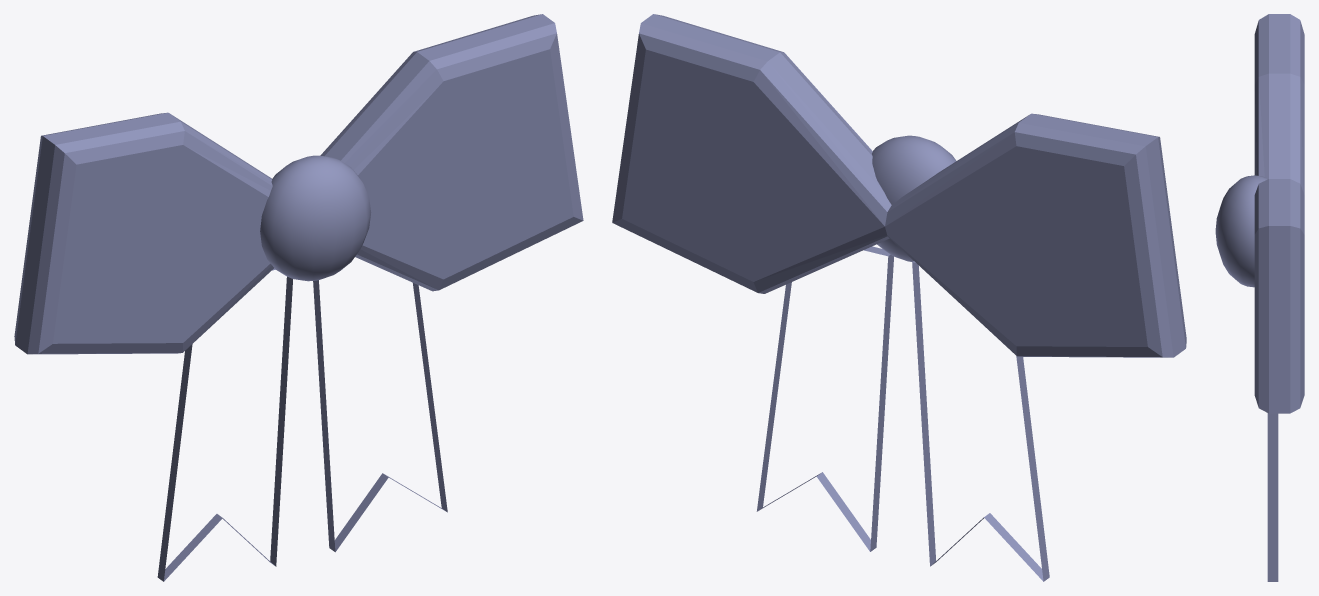
The model's file is ribbon.glb.
The picture shows the model from 3 angles, left to right: view 1: azimuth 30°, elevation 25°; view 2: azimuth 150°, elevation 25°; view 3: azimuth 270°, elevation 25°; orthographic projection. The views are drawn at different scales.
Parts seen in each view (by area): view 1: Silk ribbon; view 2: Silk ribbon; view 3: Silk ribbon.
Part boxes in pixels (x1,y1,x2,y2): Silk ribbon: (14,14,583,581); Silk ribbon: (612,14,1186,581); Silk ribbon: (1215,14,1304,581).
Size of the model in its own units: 0.4691 by 0.3836 by 0.075.
